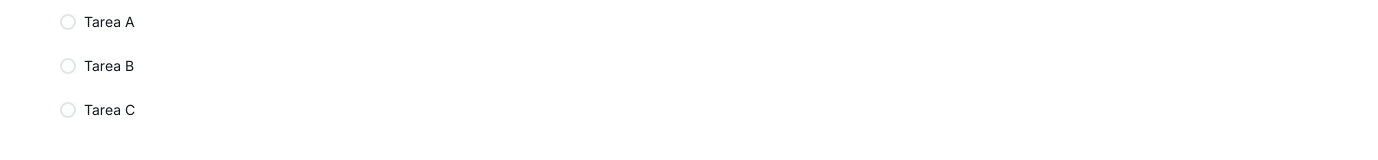
TaskRow — selección múltiple por teclado (bloque 5) › Escape vacía la selección y deja el cursor donde estaba (5.4)
The width and height of the screenshot is (1378, 160).
Focus the option "Tarea B" at (696, 66), box x1=56 y1=54 x2=1336 y2=78
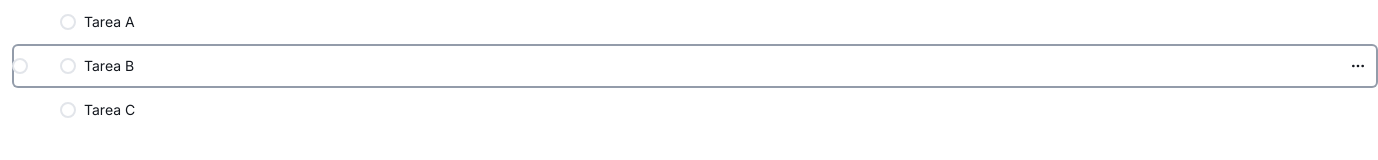
Press x
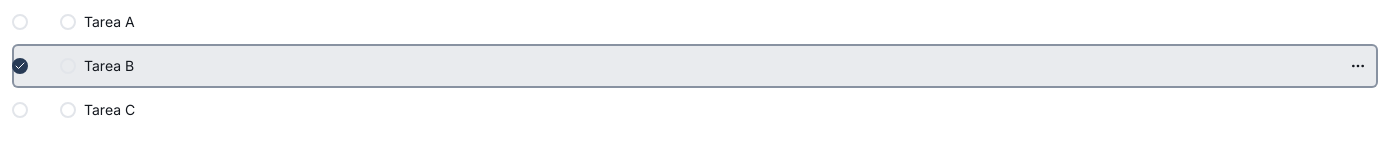
Expected: the checkbox named "Quitar Tarea B de la selección" is shown, x1=12 y1=58 x2=28 y2=74
Press Escape
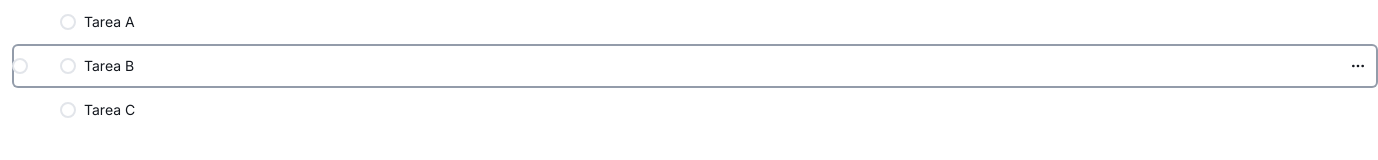
Expected: the checkbox named "Seleccionar Tarea B" is shown, x1=12 y1=58 x2=28 y2=74
